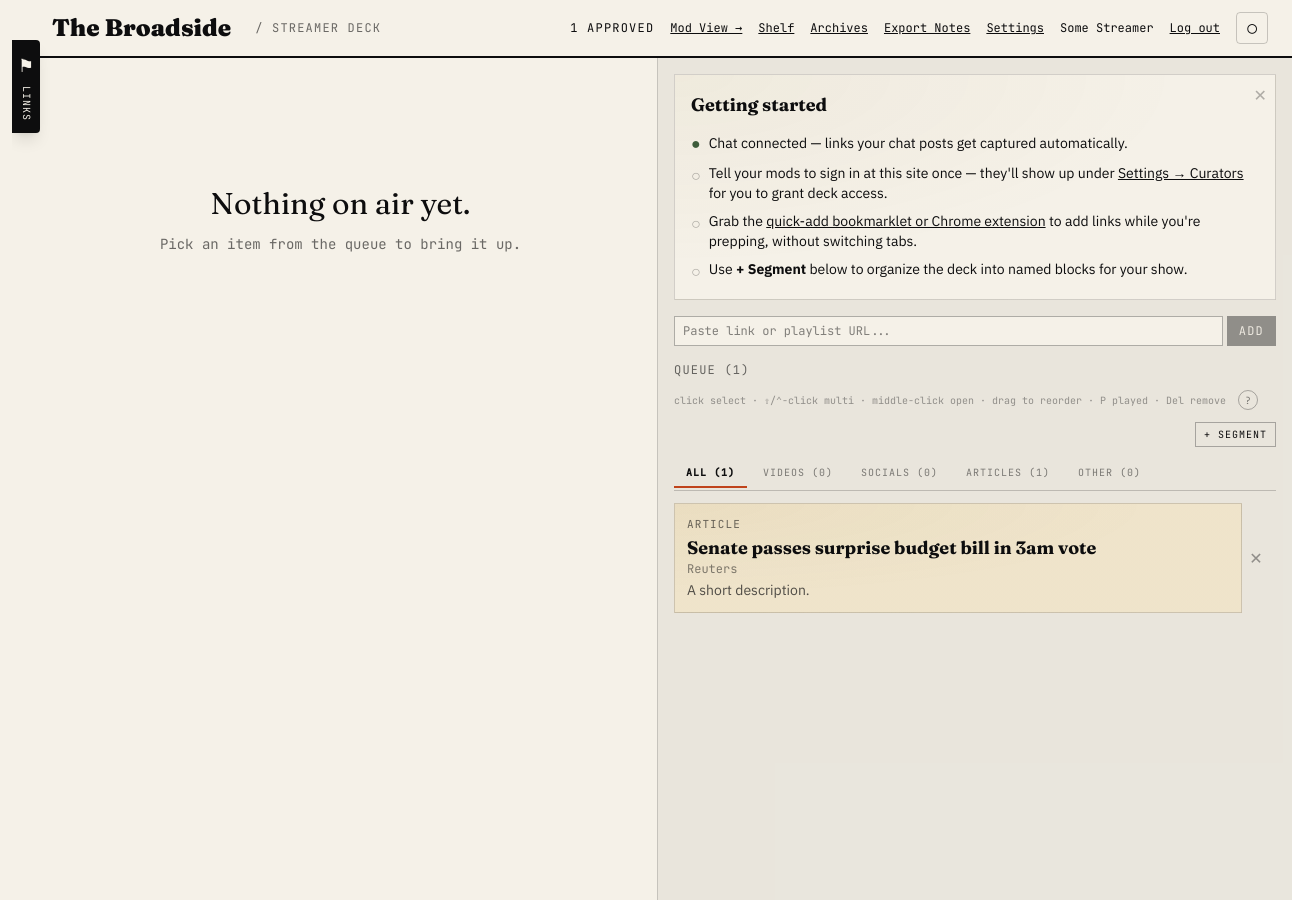
Test case: DeckView — mark played / undo › marking played writes to the server immediately — no delay to wait out before it persists
Click the text "Senate passes surprise budget bill in 3am vote": point(892, 547) x1=687 y1=536 x2=1096 y2=558
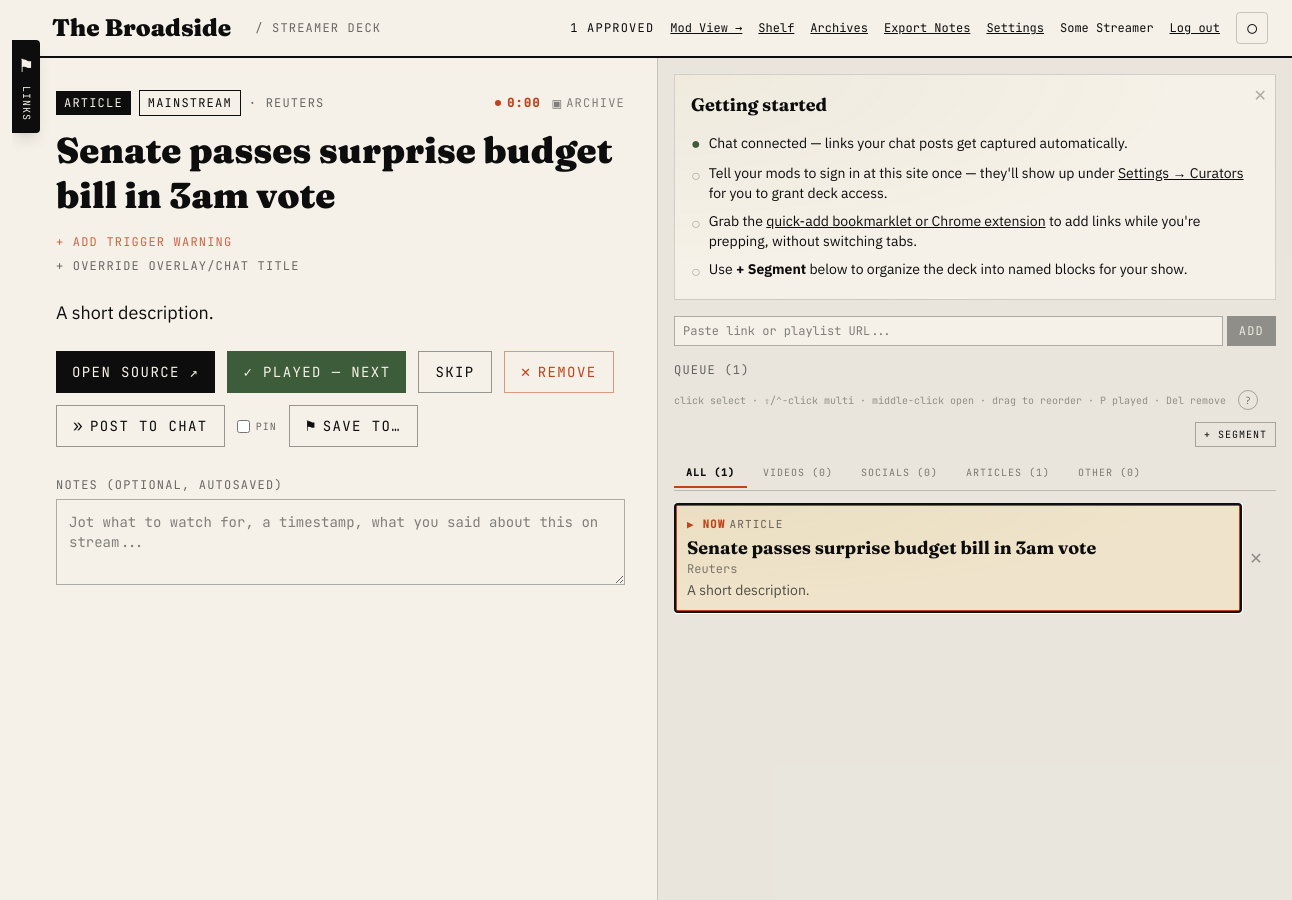
Click the button "✓ Played — next": point(317, 372) x1=227 y1=351 x2=406 y2=393
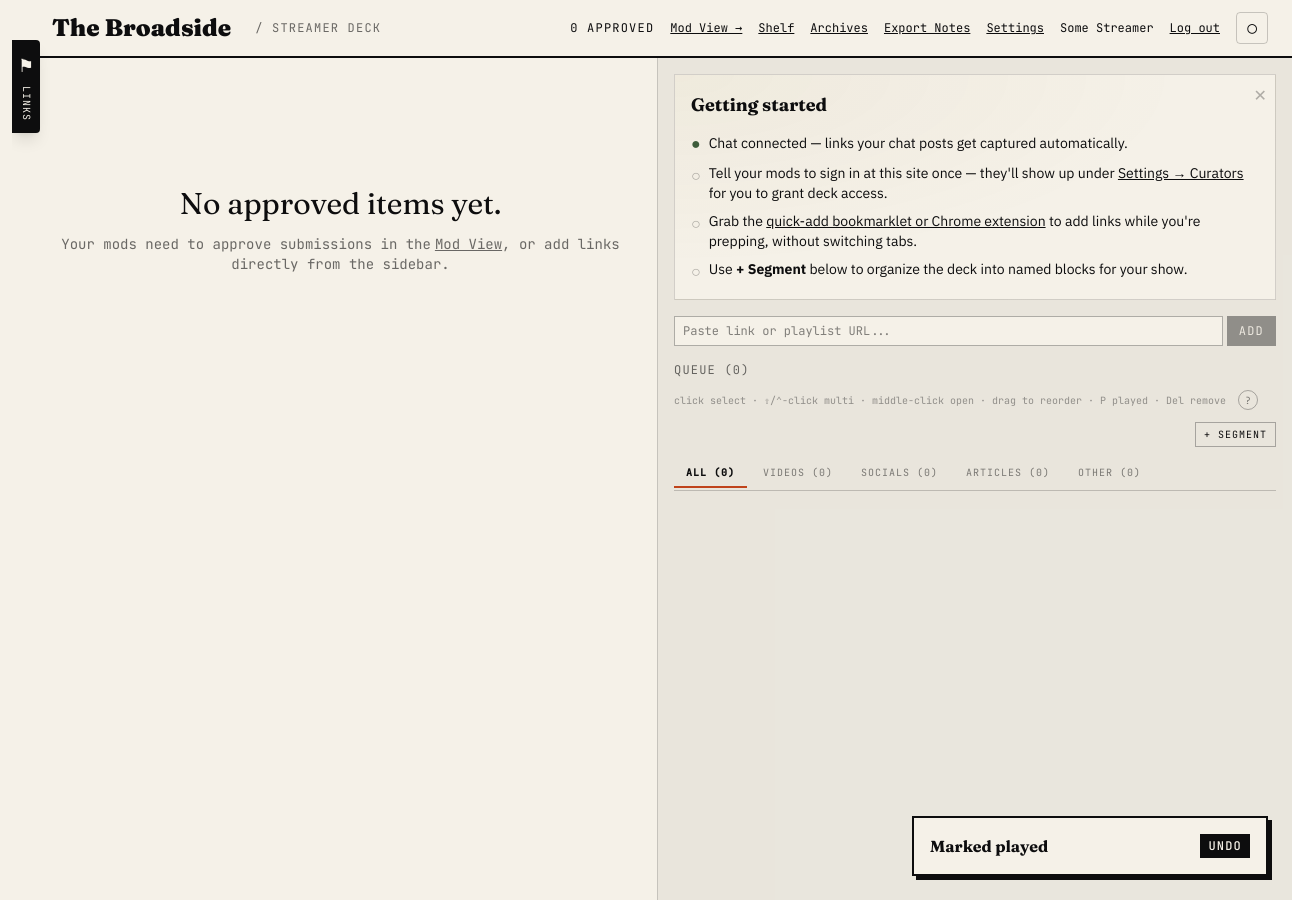
Now the heading "Senate passes surprise budget bill in 3am vote" is gone
